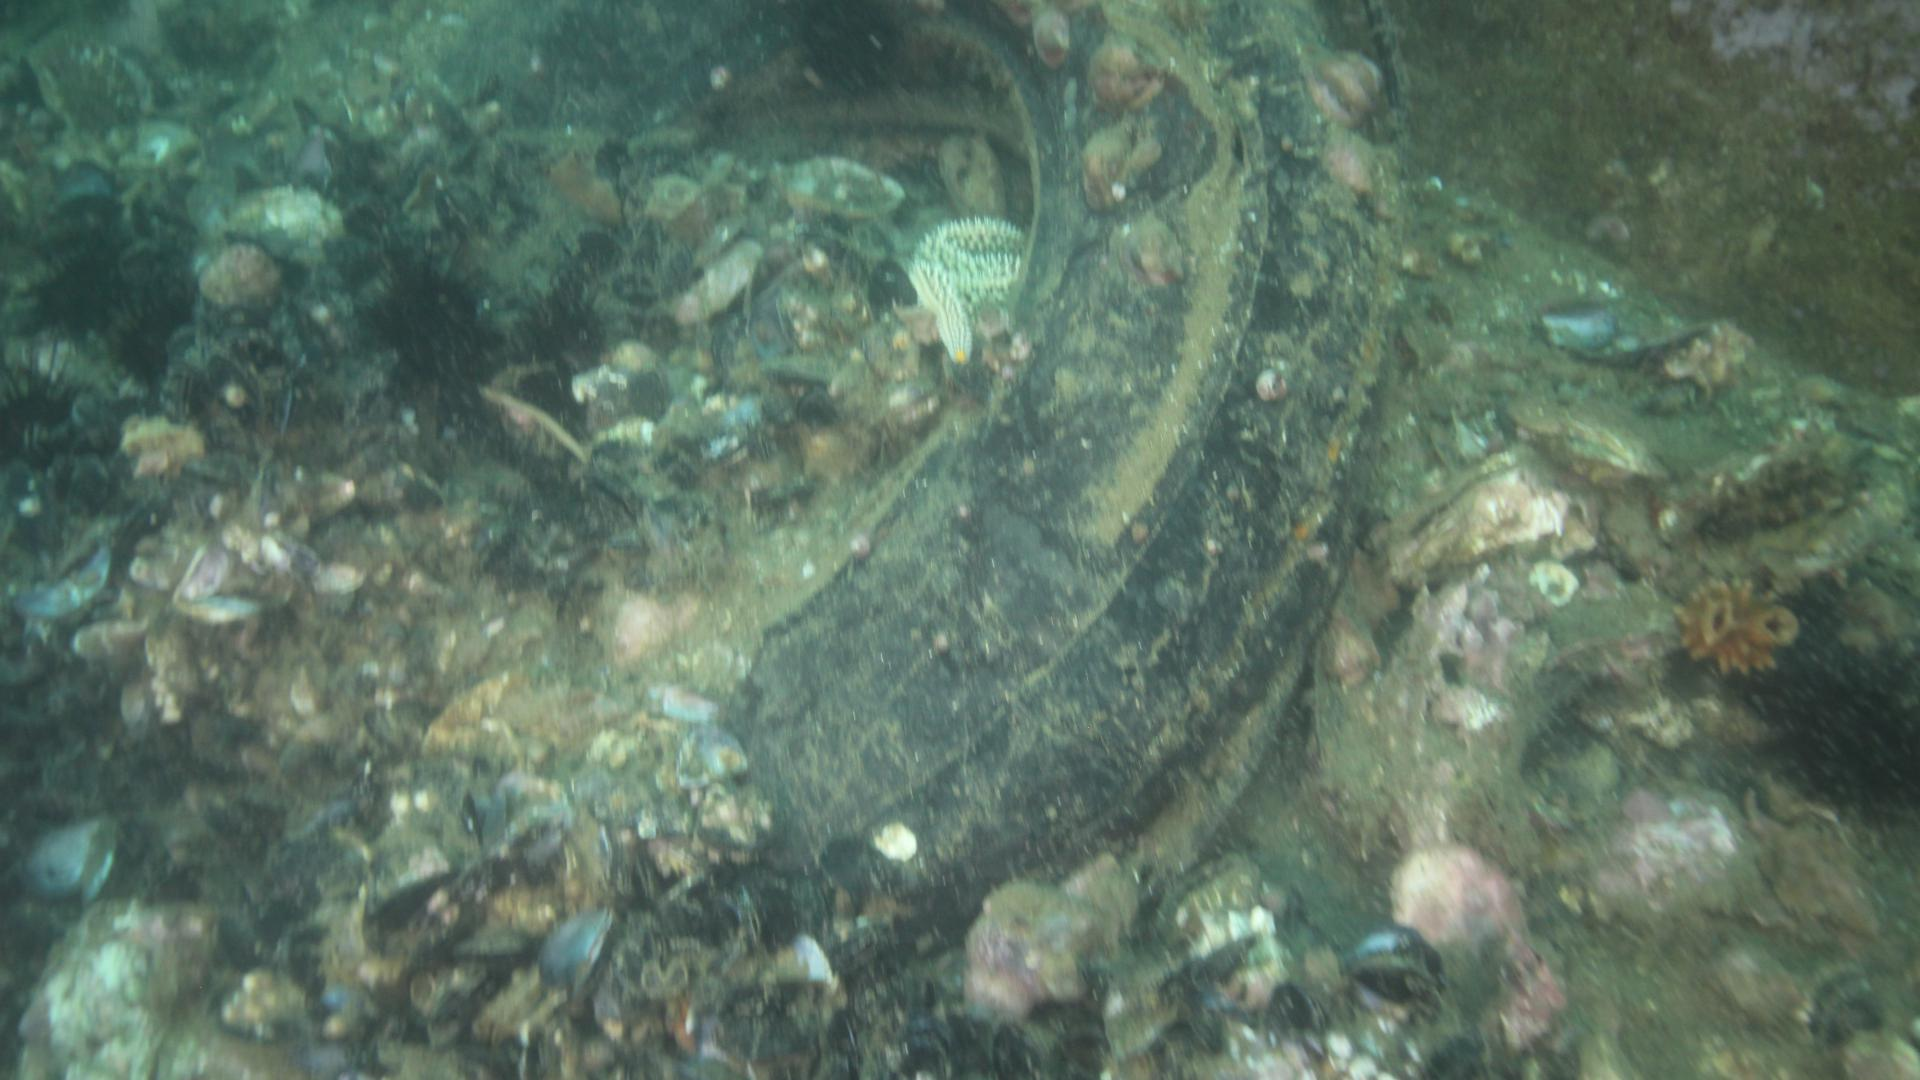tire: (450, 0, 1399, 963)
